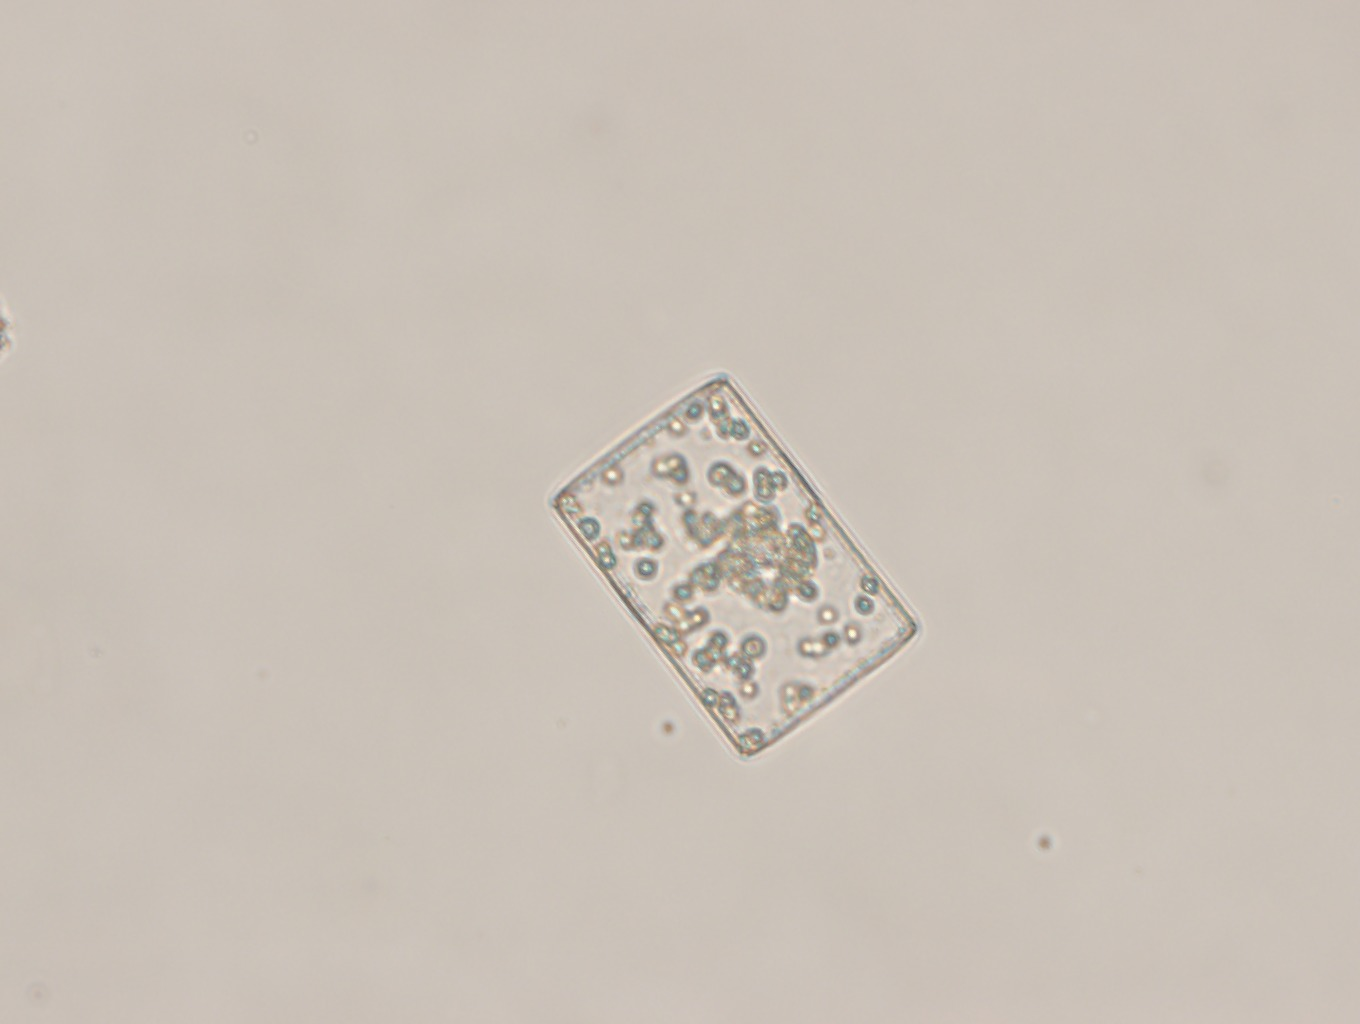guinardia flaccida: (535, 360, 926, 762)
